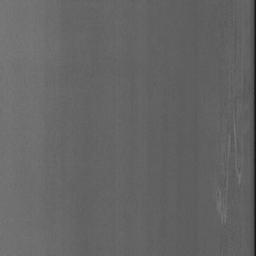Silk spot: (217, 125, 240, 204), (253, 0, 256, 256), (220, 232, 227, 256), (234, 28, 237, 50)
